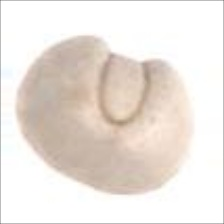L5: (96, 47, 160, 128), (54, 160, 134, 199)
L6: (12, 32, 194, 202)
